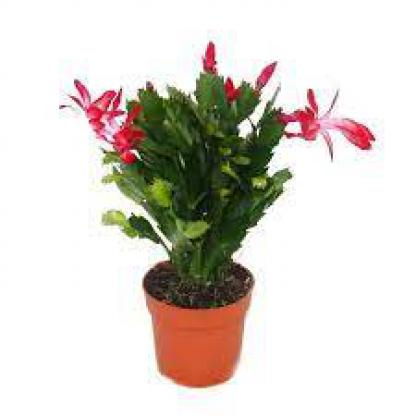Aglonema: (68, 5, 359, 354)
